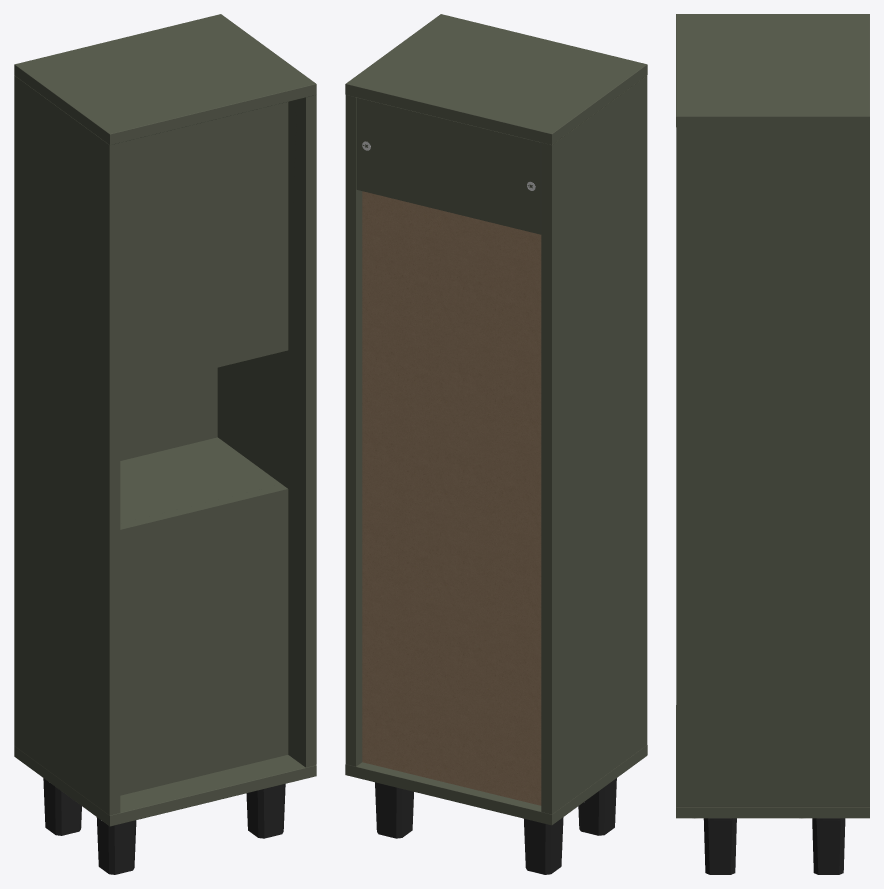
3 views of the same model, side by side, from view 1: azimuth 30°, elevation 25°; view 2: azimuth 150°, elevation 25°; view 3: azimuth 270°, elevation 25° (orthographic).
Parts seen in each view (by area): view 1: SketchUp.002, Cube.001, SketchUp.064, SketchUp.163, Cube.006, Cube.003; view 2: SketchUp.167, SketchUp.002, Cube.001, Cube.002, Cube.003, Cube.006; view 3: SketchUp.002, Cube.001, Cube.003, Cube.006.
Part boxes in pixels (box(x1,y1,x2,y2)): SketchUp.002: box(14, 75, 316, 815); Cube.001: box(14, 14, 316, 144); SketchUp.064: box(120, 437, 281, 523); SketchUp.163: box(120, 367, 217, 460); Cube.006: box(14, 746, 316, 826); Cube.003: box(43, 778, 285, 874); SketchUp.167: box(362, 191, 541, 805); SketchUp.002: box(345, 75, 647, 814); Cube.001: box(345, 14, 647, 144); Cube.002: box(356, 97, 541, 234); Cube.003: box(375, 778, 616, 874); Cube.006: box(345, 745, 647, 825); SketchUp.002: box(676, 127, 869, 806); Cube.001: box(676, 14, 869, 127); Cube.003: box(703, 818, 845, 874); Cube.006: box(676, 705, 869, 818).
Bounding box in the file's own units: 0.3501 × 1.22 × 0.2803.
Materials: 5 (1 with a texture image).
